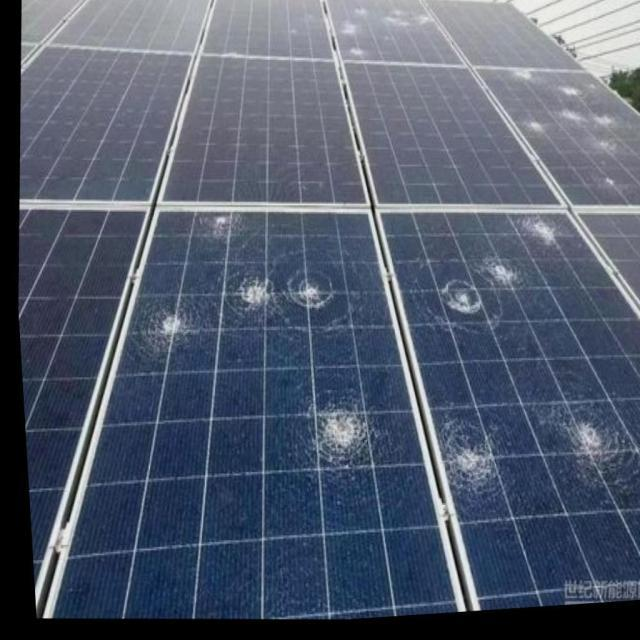cracked: (107, 196, 460, 620), (387, 200, 633, 612)
